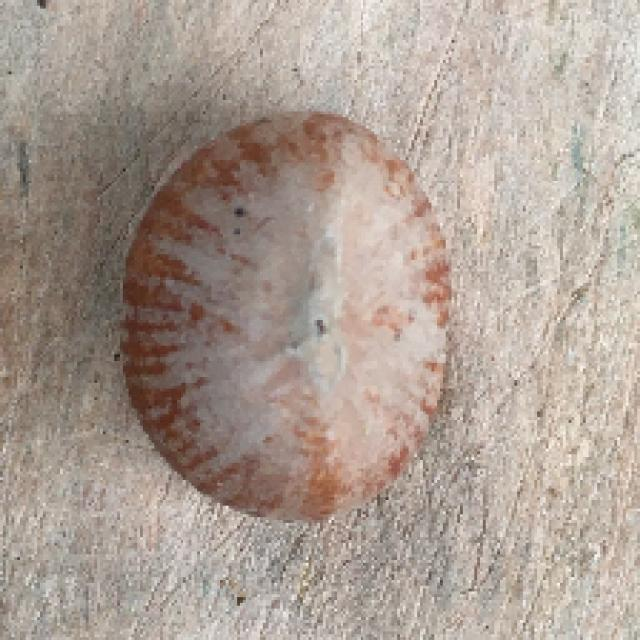QualityHazelnut: (114, 107, 458, 528)
